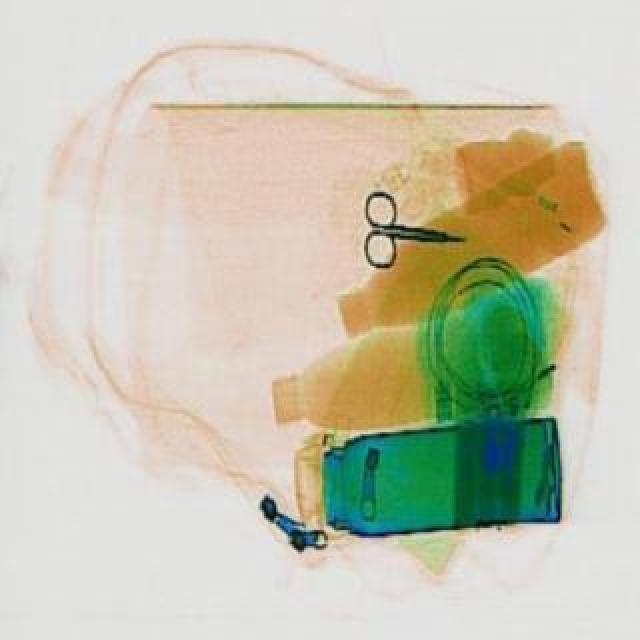pliers: (354, 186, 470, 274)
